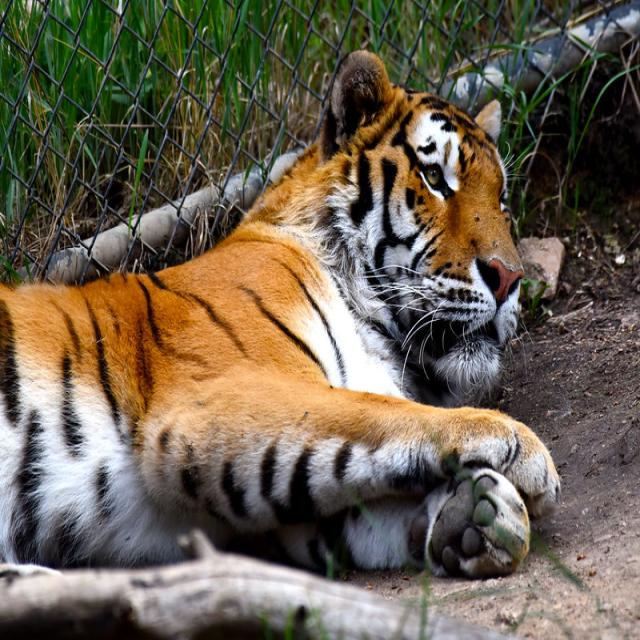Tiger: (0, 46, 561, 634)
